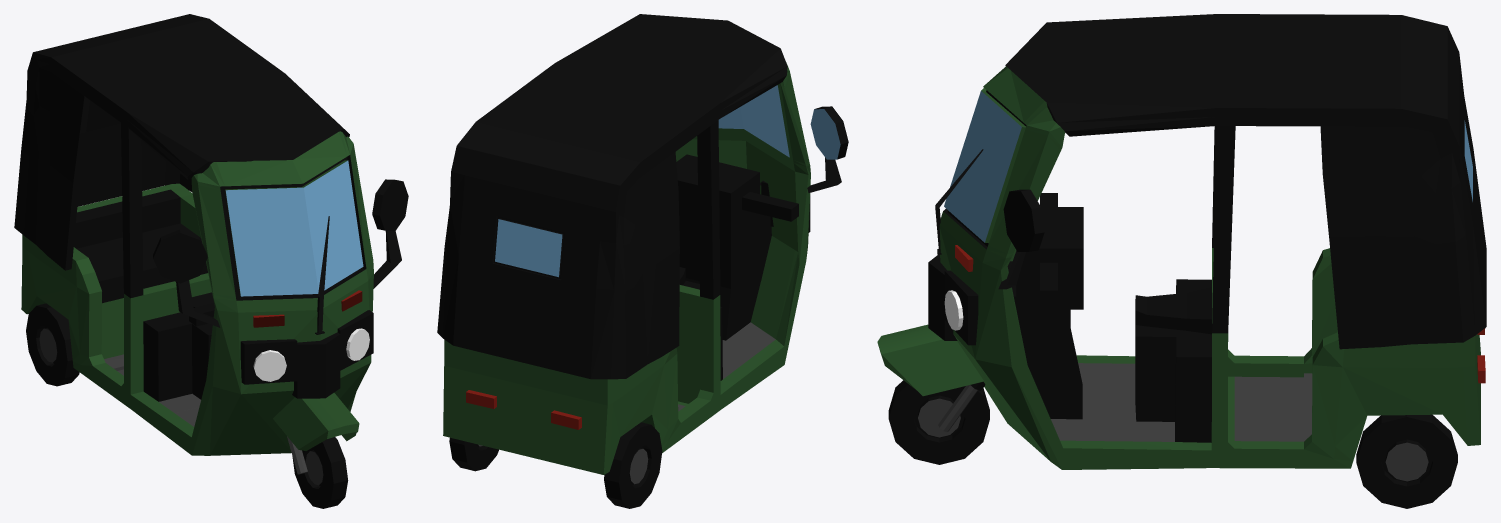
Rendered from SM_Tuktuk_V1.fbx.
The picture shows the model from 3 angles, left to right: view 1: azimuth 30°, elevation 25°; view 2: azimuth 150°, elevation 25°; view 3: azimuth 270°, elevation 25°; orthographic projection. The views are drawn at different scales.
Visible parts, largest first — view 1: Cube.001; view 2: Cube.001; view 3: Cube.001.
Part boxes in pixels (box(x1,y1,x2,y2)): Cube.001: box(14, 14, 408, 508); Cube.001: box(437, 14, 848, 508); Cube.001: box(877, 14, 1486, 508).
Bounding box in the file's own units: 292 × 359 × 496.
